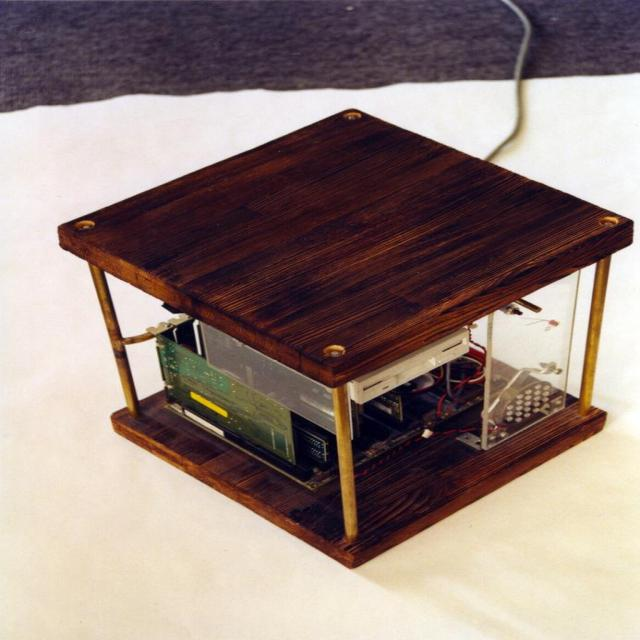table: (47, 129, 630, 547)
